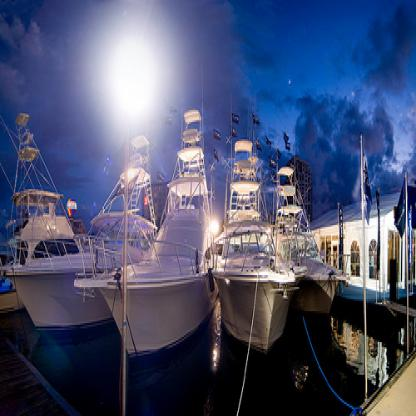boat: (74, 107, 221, 382), (2, 134, 158, 390), (212, 132, 296, 354), (0, 124, 81, 340), (272, 160, 350, 337)
